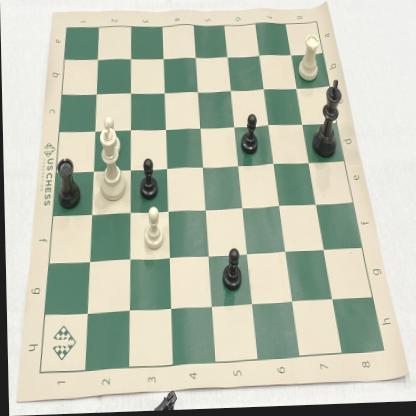black-king: (307, 75, 345, 167)
black-pawn: (216, 244, 246, 299), (236, 106, 262, 164), (134, 150, 160, 205)
black-rook: (46, 148, 82, 212)
white-king: (90, 122, 128, 206)
white-pawn: (140, 206, 168, 256), (97, 114, 124, 163)
white-rook: (293, 32, 322, 90)
